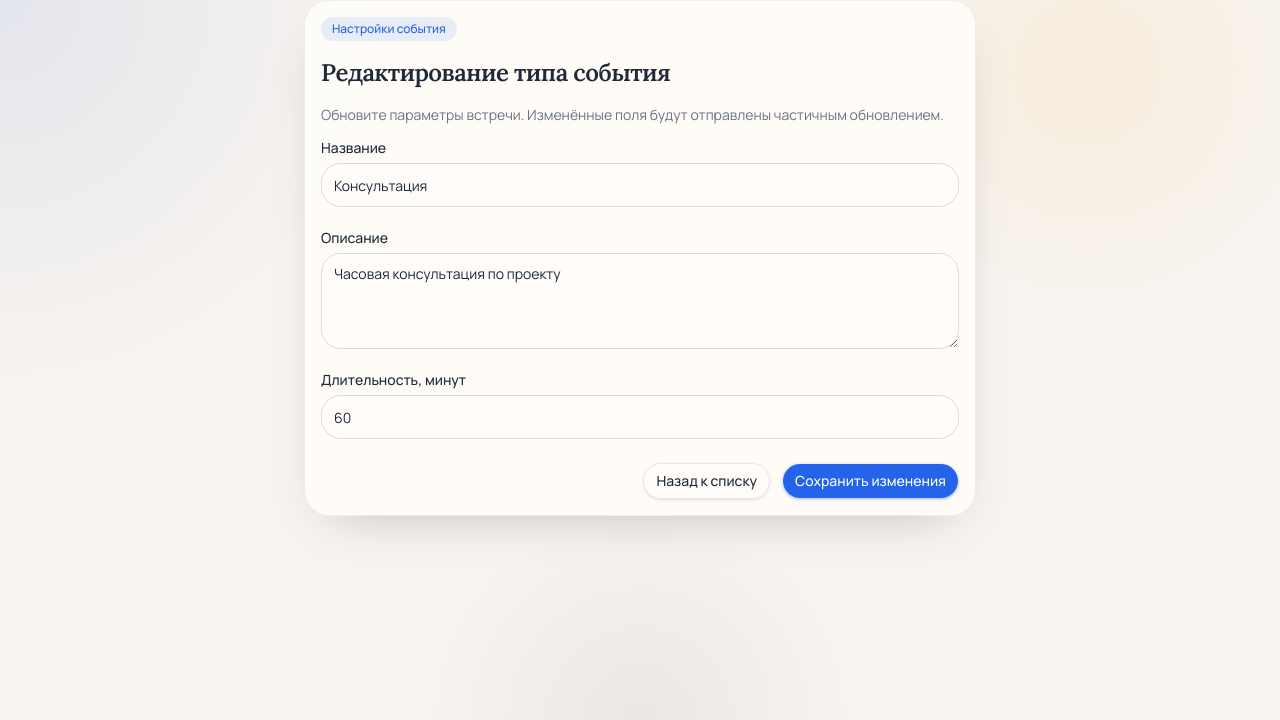
EditEventTypePage › показывает ошибку 404 при сохранении
The image size is (1280, 720).
Expected: the field showing "Консультация" is shown, [321,163,959,207]
Replace the text in the text box labelled "Описание" with "Новое описание" at (640,301), box [321,253,959,349]
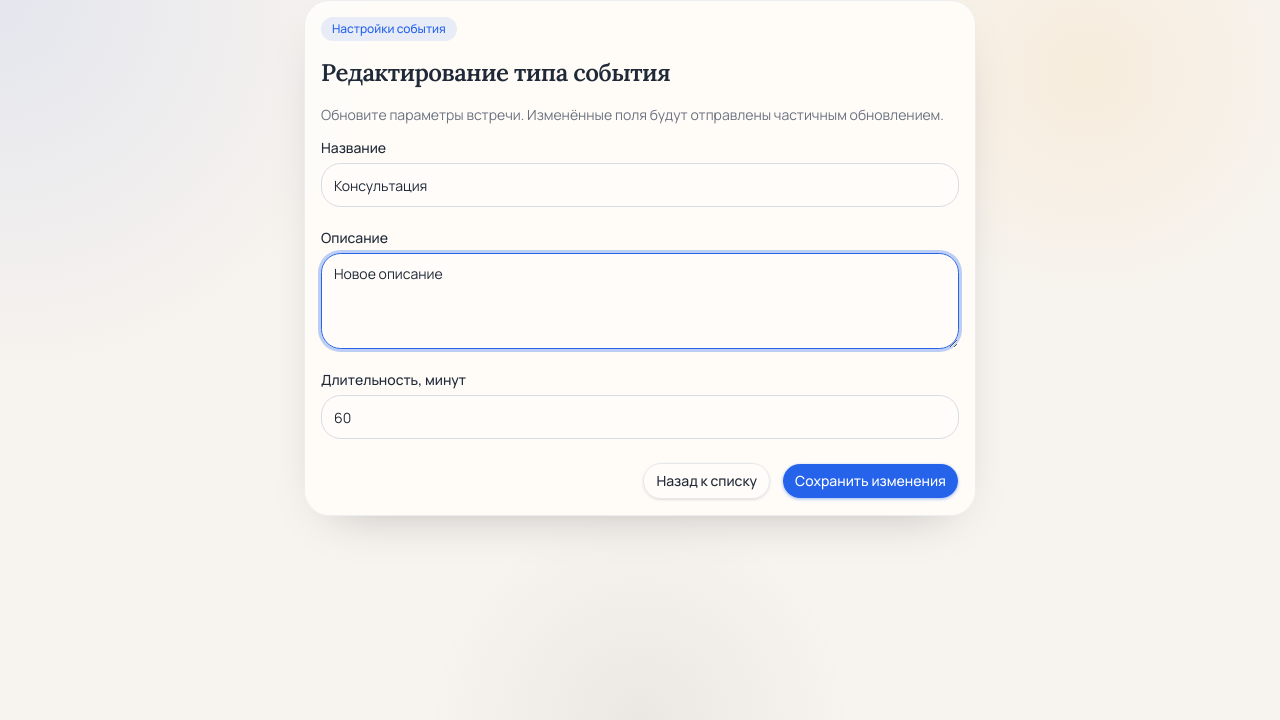
Click the button "Сохранить изменения".
click(871, 481)  # box [782,463,959,499]
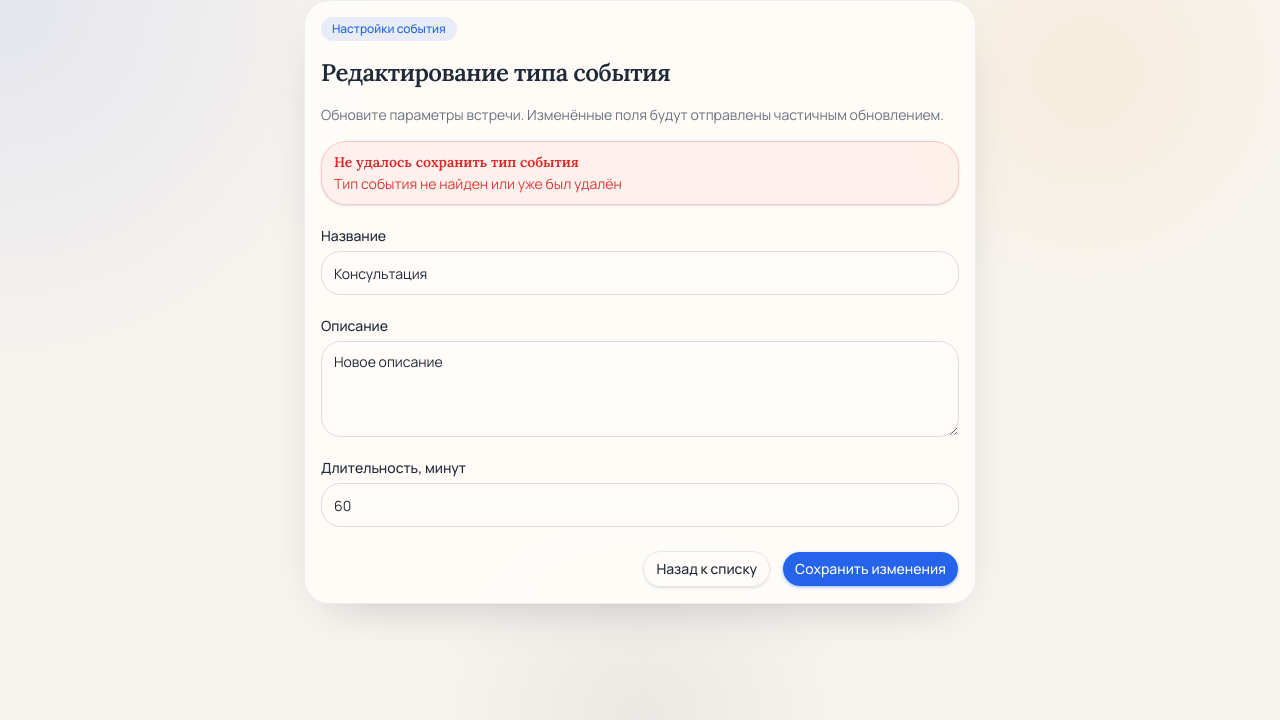
Expected: the text "Тип события не найден или уже был удалён" is shown, [334,174,622,193]
